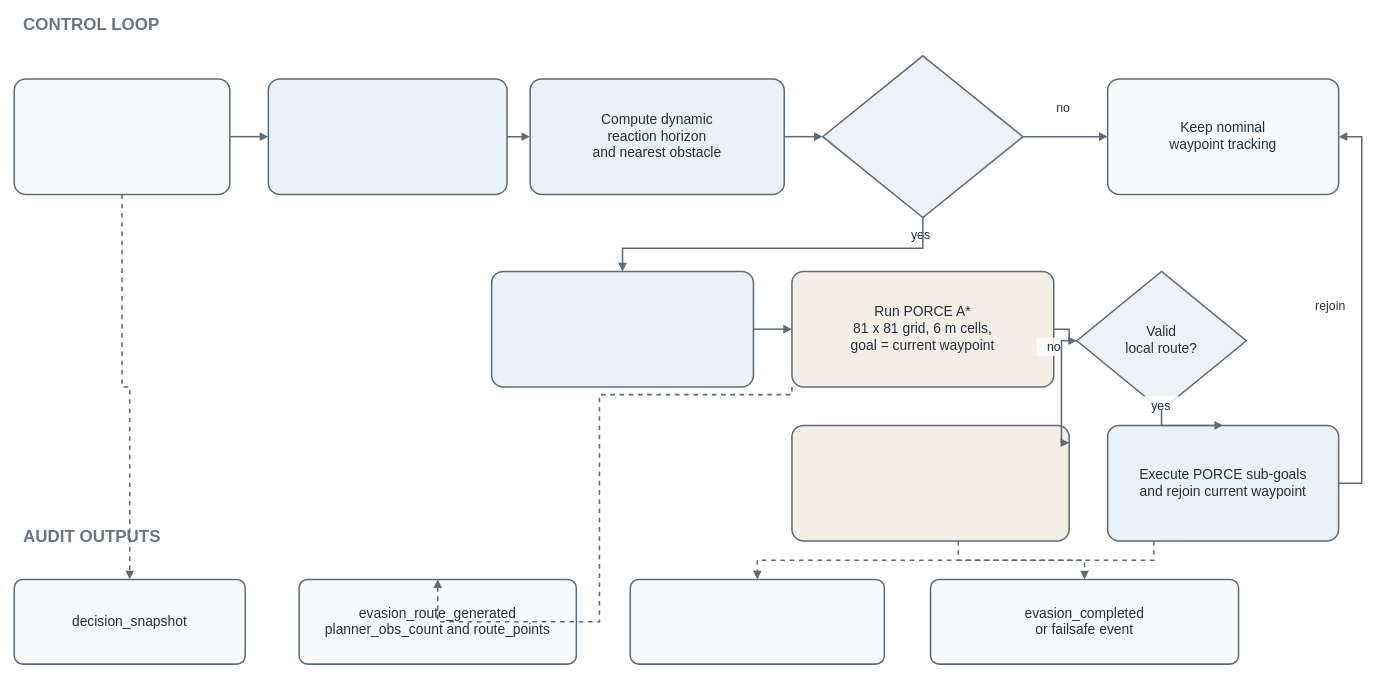
Image size: 1381x678. Some labels were removed from this diagram. Each missing label, with the centre of its shape:
Build bounded planner subset max 55 m, up to 16 tracks: pixel 622 328
Canonicalize person / bicycle / biker into protected tracks: pixel 387 136
Failsafe ladder hold, lateral replan, LAND or RTL: pixel 930 482
Obstacle inside reaction horizon?: pixel 922 136
Refresh telemetry, active waypoint, and obstacle tracks: pixel 121 136
trajectory.csv and evasion progress: pixel 757 621
